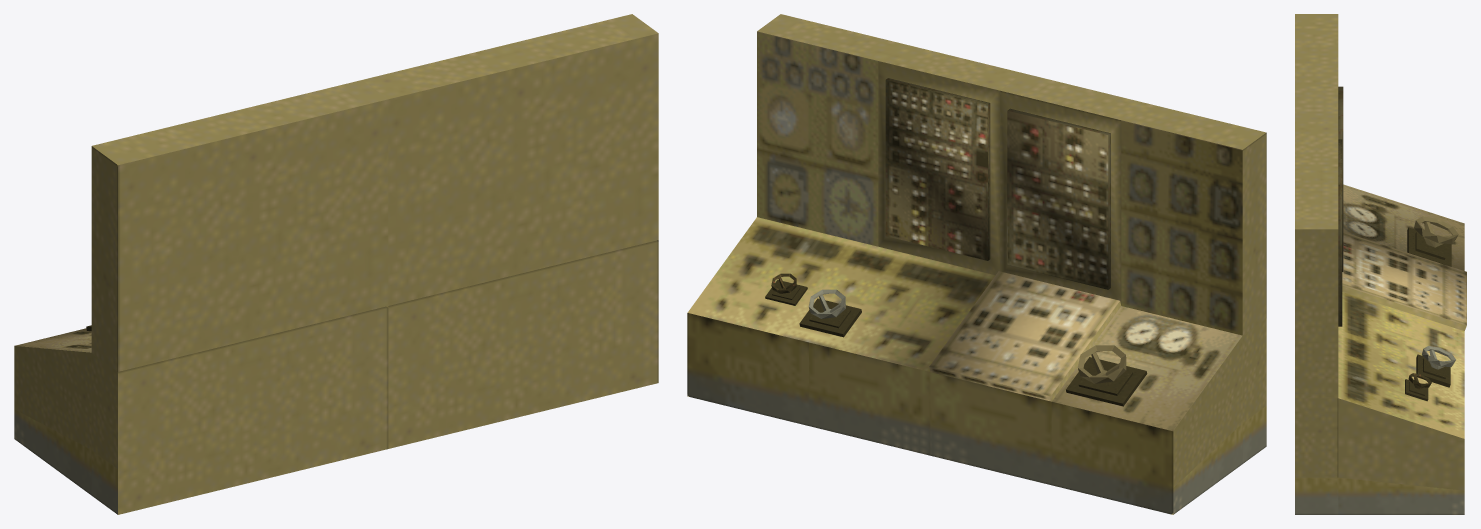
The model's file is control_panel.fbx.
The picture shows the model from 3 angles, left to right: view 1: azimuth 30°, elevation 25°; view 2: azimuth 150°, elevation 25°; view 3: azimuth 270°, elevation 25°; orthographic projection. The views are drawn at different scales.
Parts seen in each view (by area): view 1: Control_Panel; view 2: Control_Panel, Mini_valve_1, Mini_valve_3, Mini_valve_2; view 3: Control_Panel, Mini_valve_1, Mini_valve_3, Mini_valve_2.
Boxes of the visible parts, <box> form: Control_Panel: <box>14,14,658,514</box>; Control_Panel: <box>687,14,1266,514</box>; Mini_valve_1: <box>1066,345,1147,406</box>; Mini_valve_3: <box>799,289,861,337</box>; Mini_valve_2: <box>765,273,807,305</box>; Control_Panel: <box>1295,14,1466,514</box>; Mini_valve_1: <box>1407,216,1458,266</box>; Mini_valve_3: <box>1416,346,1455,387</box>; Mini_valve_2: <box>1405,373,1431,401</box>.
Bounding box in the file's own units: 3.5 × 1.18 × 2.16.
Materials: 1 (1 with a texture image).
